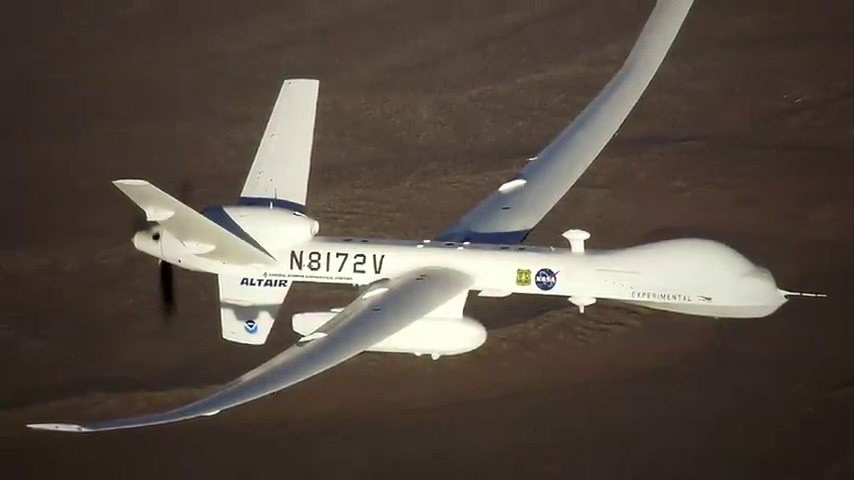military drone: (26, 0, 854, 432)
